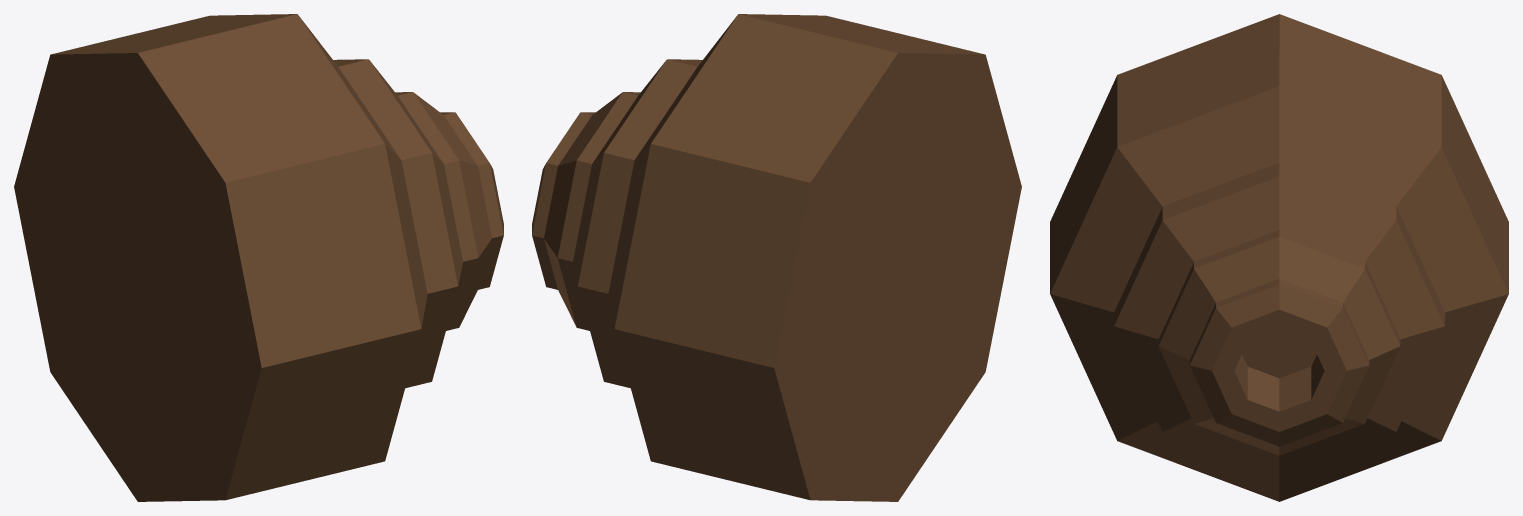
The model's file is 6bakwe.FBX.
The picture shows the model from 3 angles, left to right: view 1: azimuth 30°, elevation 25°; view 2: azimuth 150°, elevation 25°; view 3: azimuth 270°, elevation 25°; orthographic projection. The views are drawn at different scales.
Visible parts, largest first — view 1: Object003; view 2: Object003; view 3: Object003.
Part boxes in pixels (left/top/right/bottom): Object003: left=14, top=14, right=503, bottom=501; Object003: left=532, top=14, right=1021, bottom=501; Object003: left=1050, top=14, right=1508, bottom=501.
Size of the model in its own units: 25.55 by 33.26 by 33.26.
Materials: 1 (1 with a texture image).
